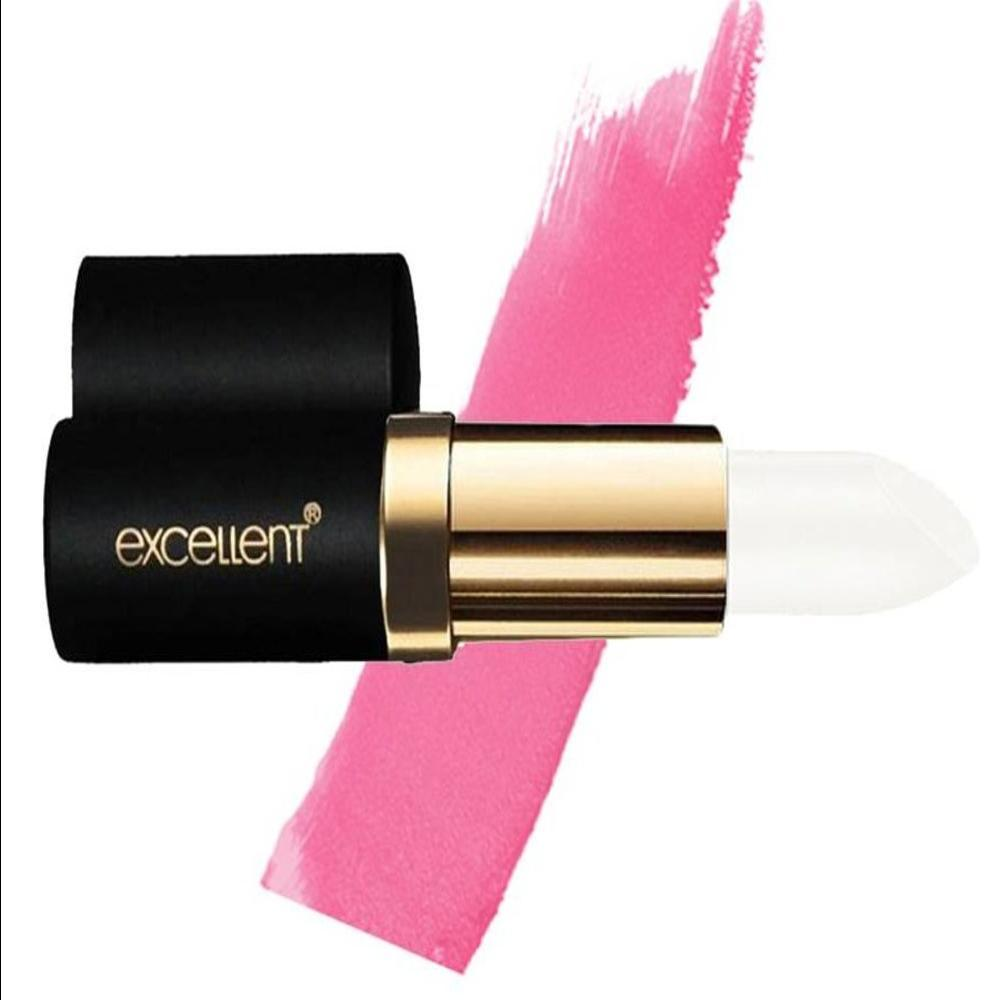lipstick: (8, 354, 787, 682)
